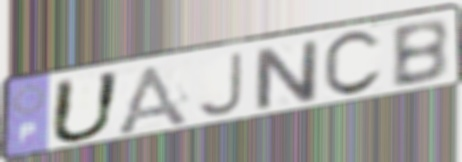A: (111, 61, 194, 136)
B: (388, 17, 451, 91)
C: (320, 28, 385, 100)
J: (194, 50, 245, 120)
N: (252, 38, 321, 114)
U: (46, 69, 125, 146)
